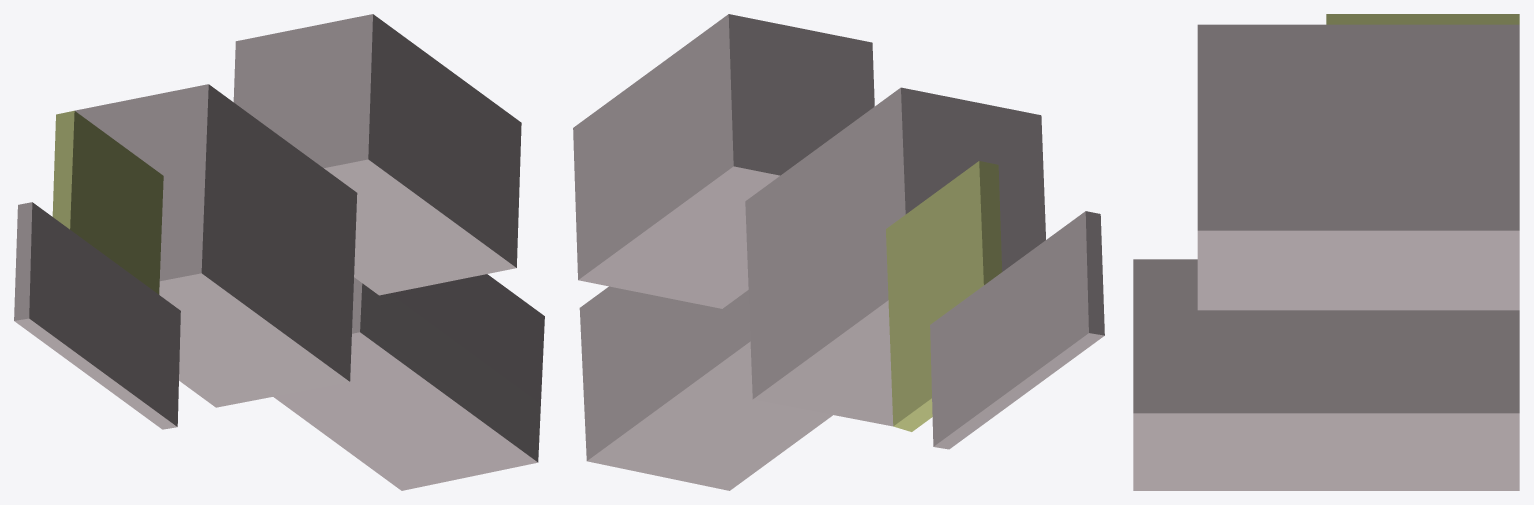
The picture shows the model from 3 angles, left to right: view 1: azimuth 30°, elevation 25°; view 2: azimuth 150°, elevation 25°; view 3: azimuth 270°, elevation 25°; orthographic projection. The views are drawn at different scales.
Parts seen in each view (by area): view 1: 0_2_1_3_0_0_3_2_1_3; view 2: 0_2_1_3_0_0_3_2_1_3; view 3: 0_2_1_3_0_0_3_2_1_3.
Boxes of the visible parts, left/top/right/bottom form: 0_2_1_3_0_0_3_2_1_3: left=14, top=14, right=544, bottom=490; 0_2_1_3_0_0_3_2_1_3: left=573, top=14, right=1104, bottom=490; 0_2_1_3_0_0_3_2_1_3: left=1133, top=14, right=1519, bottom=490.
Bounding box in the file's own units: 20.94 × 17.9 × 18.
